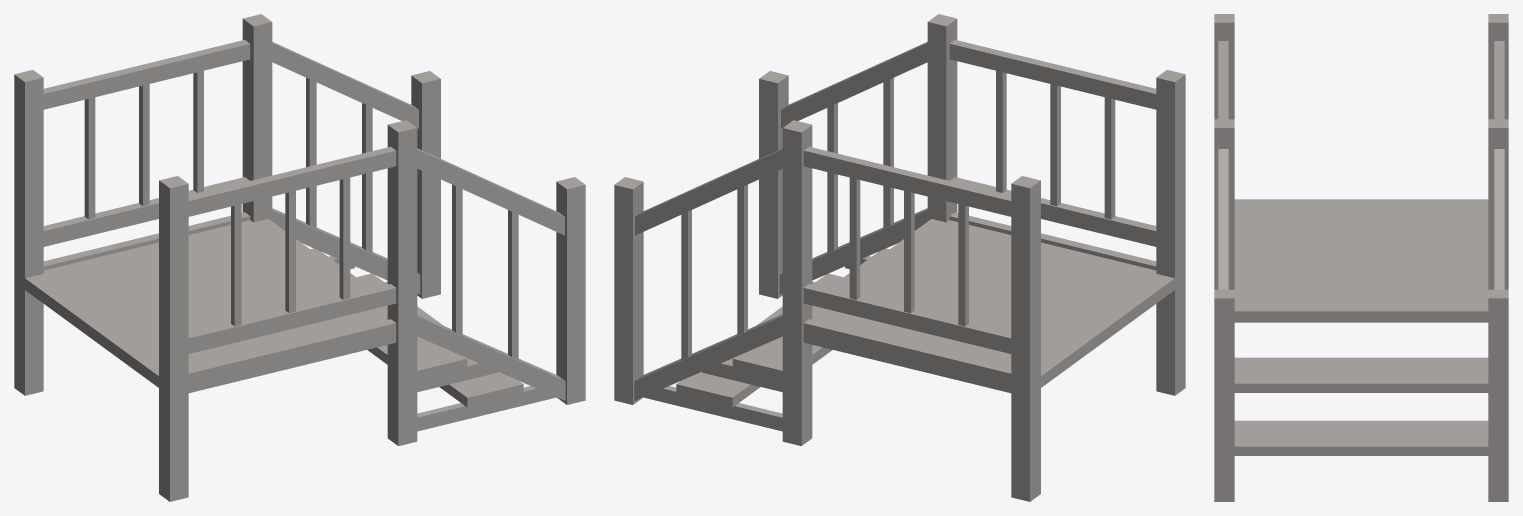
The model's file is SM_Props_Desert_MobileHome_Steps_01.fbx.
The picture shows the model from 3 angles, left to right: view 1: azimuth 30°, elevation 25°; view 2: azimuth 150°, elevation 25°; view 3: azimuth 270°, elevation 25°; orthographic projection. The views are drawn at different scales.
Parts seen in each view (by area): view 1: SM_Props_Desert_MobileHome_Steps_01; view 2: SM_Props_Desert_MobileHome_Steps_01; view 3: SM_Props_Desert_MobileHome_Steps_01.
Boxes of the visible parts, x1,y1,x2,y2 form: SM_Props_Desert_MobileHome_Steps_01: (14,14,585,501); SM_Props_Desert_MobileHome_Steps_01: (614,14,1185,501); SM_Props_Desert_MobileHome_Steps_01: (1214,14,1508,501).
Size of the model in its own units: 222 by 160 by 144.
